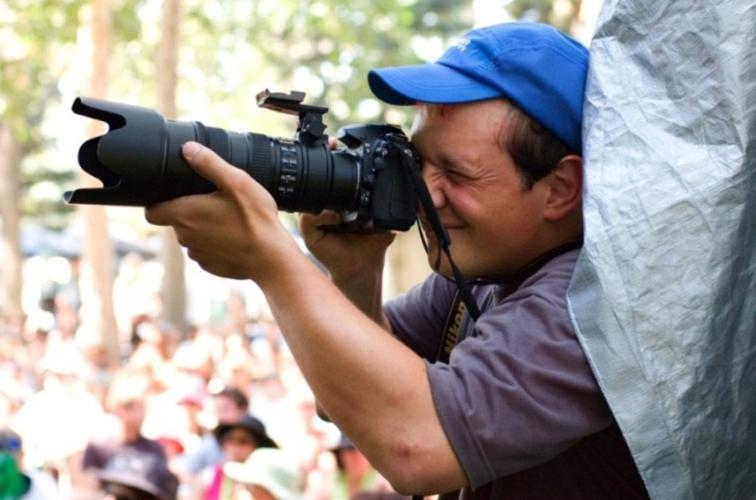person: (137, 24, 654, 500)
